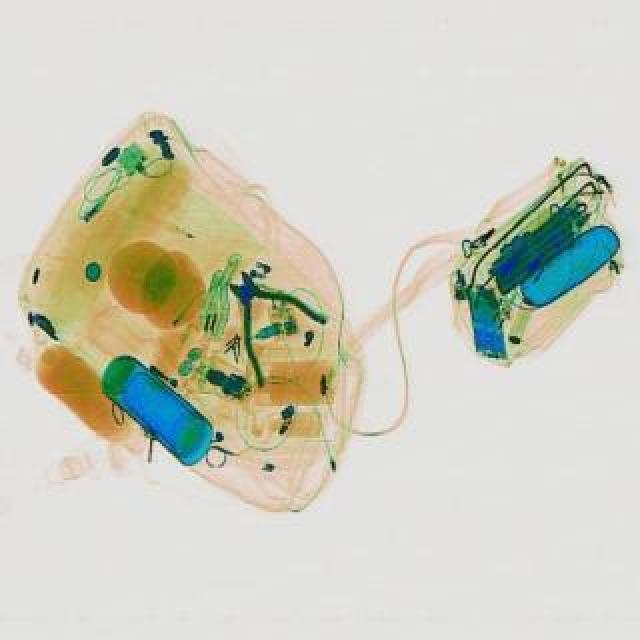wrench: (188, 248, 340, 386)
